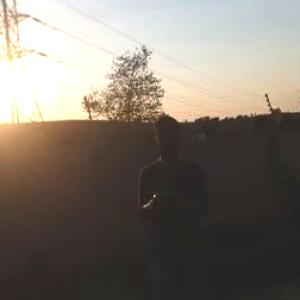follow: (132, 109, 217, 299)
